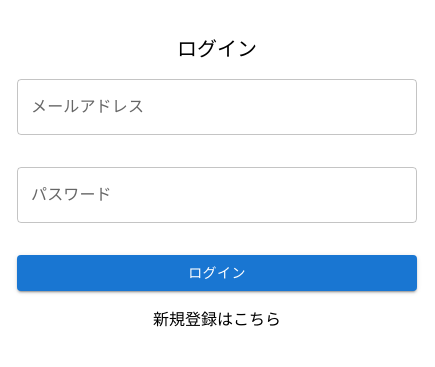
Test: Login Form Tests › displays an error message for invalid password format on submit
In the password field labelled "パスワード": (217, 195) [17,167,417,223], type "test"
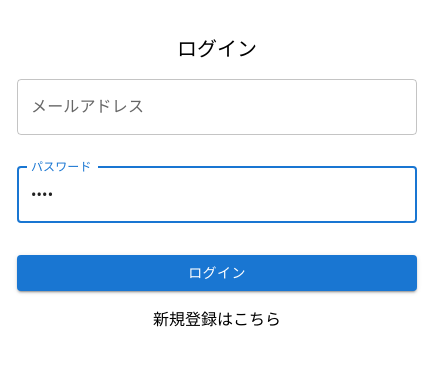
Click the submit button: (217, 274) [17,255,417,292]
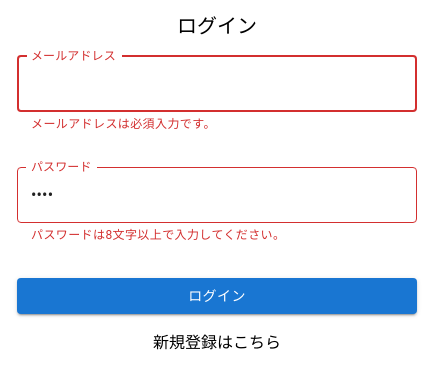
Result: the text "パスワードは8文字以上で入力してください。" is shown at [31,228,285,242]
